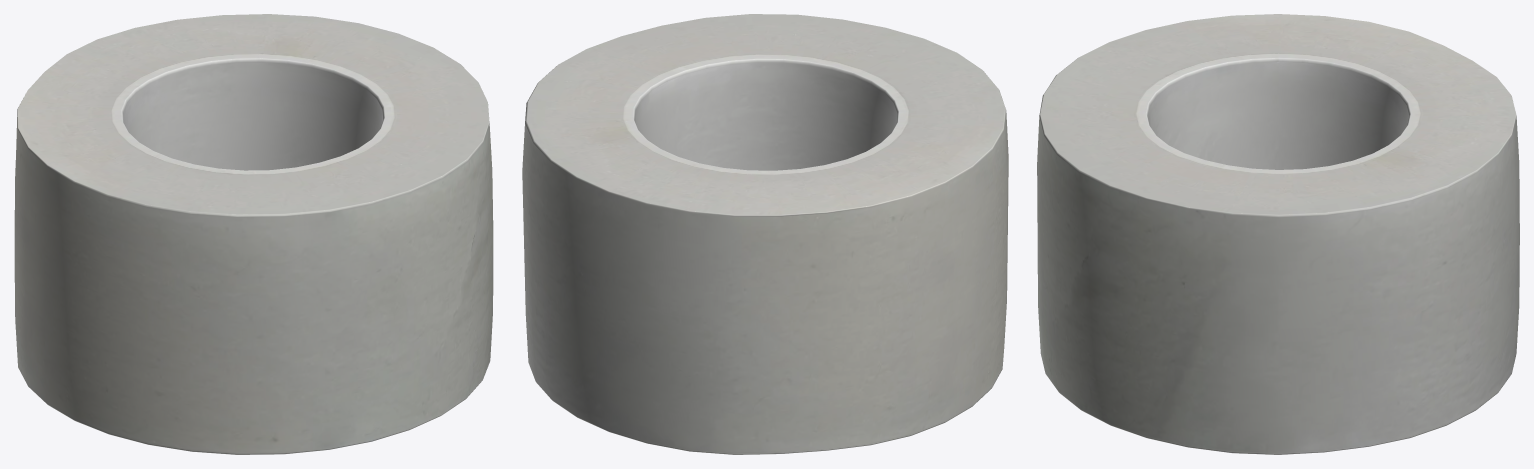
Rendered from medical_tape.f28e213162.glb.
3 renders of one model, left to right at view 1: azimuth 30°, elevation 25°; view 2: azimuth 150°, elevation 25°; view 3: azimuth 270°, elevation 25°, orthographic.
Parts seen in each view (by area): view 1: medical_tape; view 2: medical_tape; view 3: medical_tape.
Part boxes in pixels (left/top/right/bottom): medical_tape: left=14, top=14, right=493, bottom=454; medical_tape: left=522, top=14, right=1008, bottom=454; medical_tape: left=1037, top=14, right=1519, bottom=454.
Bounding box in the file's own units: 0.0453 × 0.025 × 0.0452.
1 material, 1 textured.
